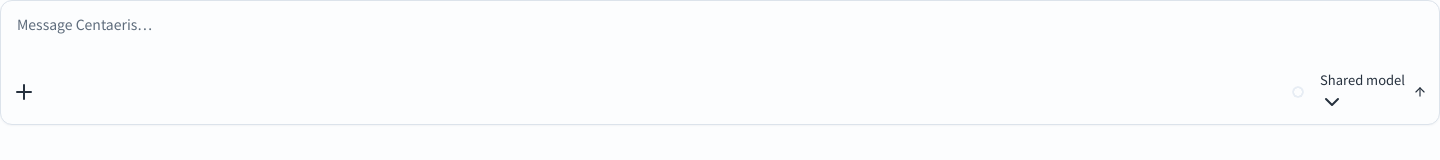
models without thinking modes omit the Effort submenu
The image size is (1440, 160).
Click the button with aria-label "Global models". click: x=1363, y=92
box: [1320,71,1405,114]
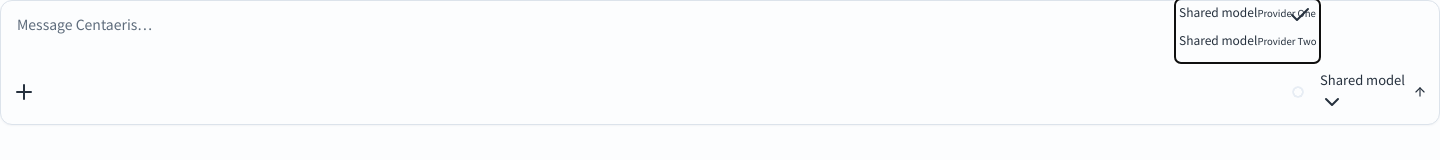
Expected: the menu is shown, [1175,0,1320,63]
